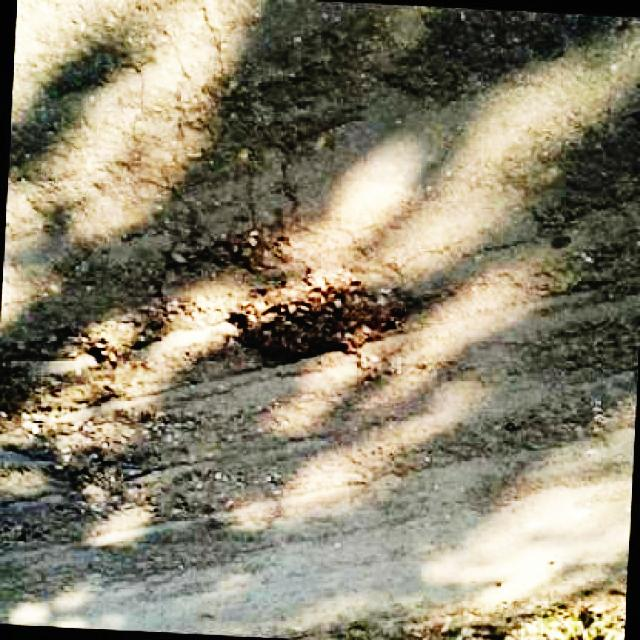pothole: (0, 310, 223, 532), (149, 238, 429, 360), (202, 23, 384, 172), (389, 0, 557, 89), (517, 127, 637, 236), (552, 310, 640, 384)
